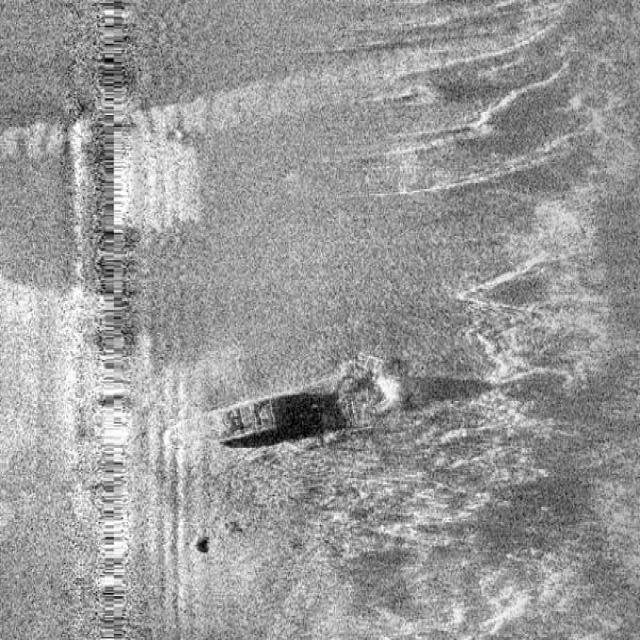shipwreck: (178, 363, 401, 446)
